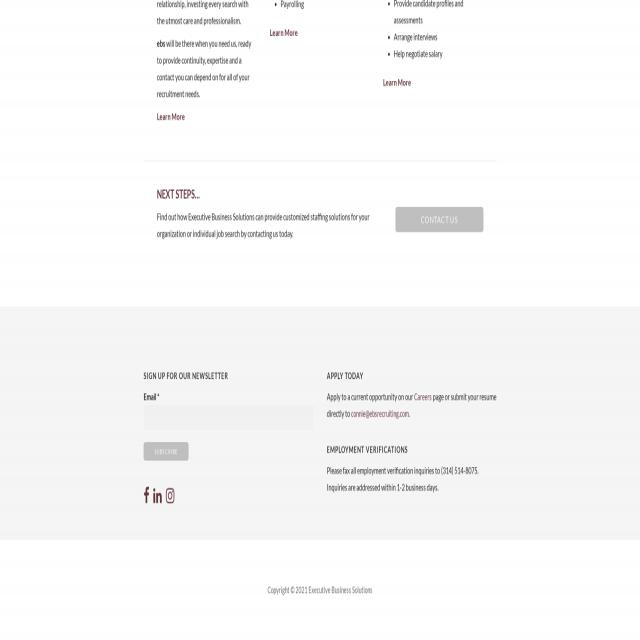button: (395, 207, 483, 232), (143, 442, 189, 461), (153, 482, 162, 511), (166, 482, 174, 511), (143, 482, 149, 511)
field: (144, 405, 314, 430)
